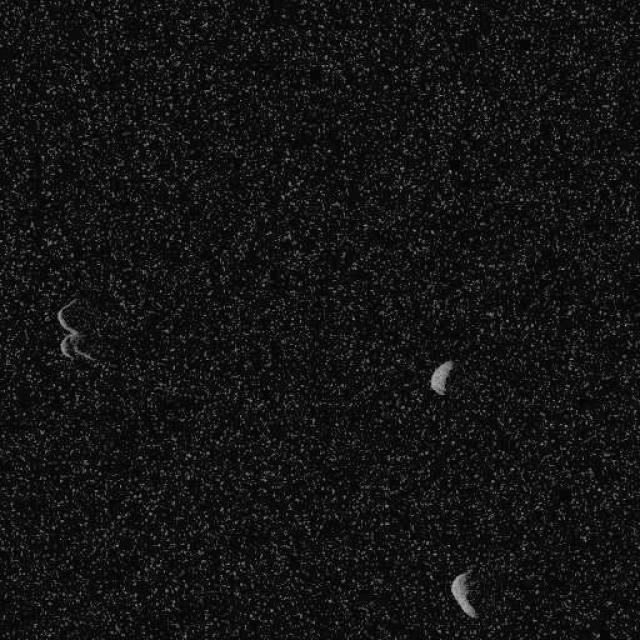D2: (55, 296, 100, 368), (449, 569, 479, 619), (428, 359, 454, 395)
